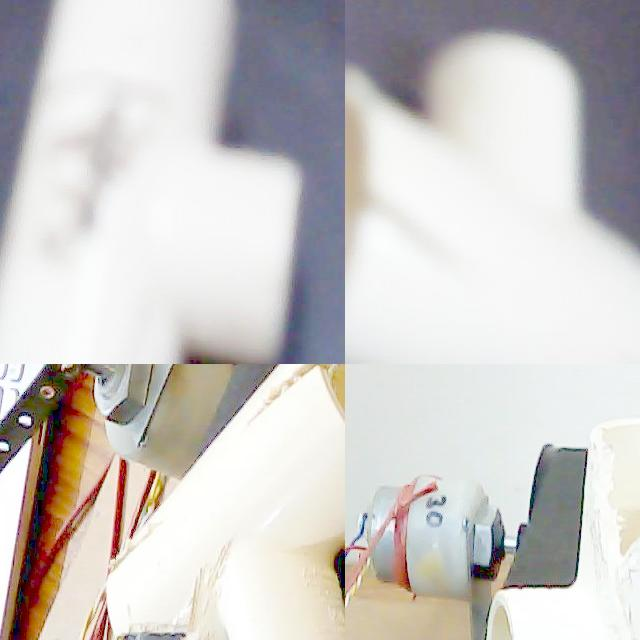Defective: (29, 70, 175, 292), (345, 182, 473, 318), (594, 441, 640, 640), (244, 364, 345, 449), (178, 530, 246, 634), (608, 444, 640, 560), (124, 530, 161, 602), (126, 618, 233, 640)
T Joint: (103, 364, 345, 640), (485, 419, 640, 640)
